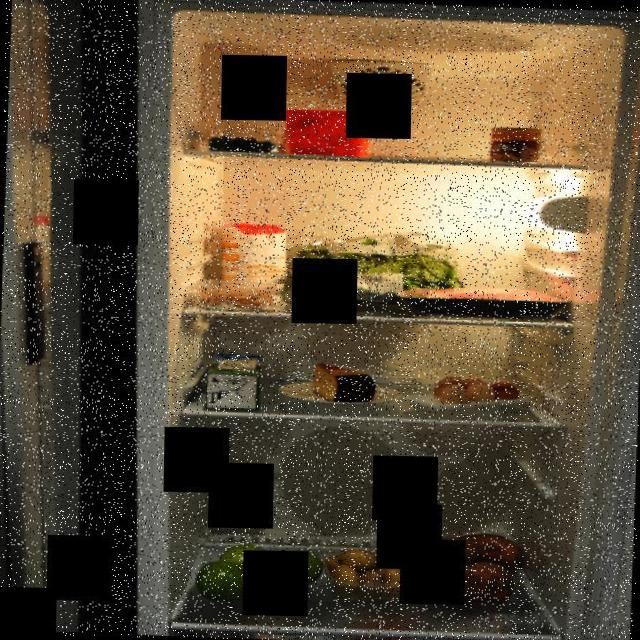Carne vacuno: (388, 282, 570, 320)
Huevos: (427, 366, 527, 411)
Leche: (203, 348, 266, 412)
Mantequilla: (274, 104, 384, 160)
Manzana: (194, 540, 326, 606)
Patata: (322, 546, 409, 602)
Queso: (310, 361, 380, 404)
blueberries: (205, 124, 288, 152)
corn: (487, 124, 543, 164)
spinach: (284, 238, 469, 308)
sugar: (216, 220, 290, 300)
sweet_potato: (402, 528, 526, 609)
